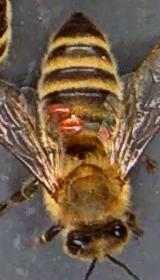varroa_mite: (43, 85, 78, 122), (60, 108, 91, 137)
